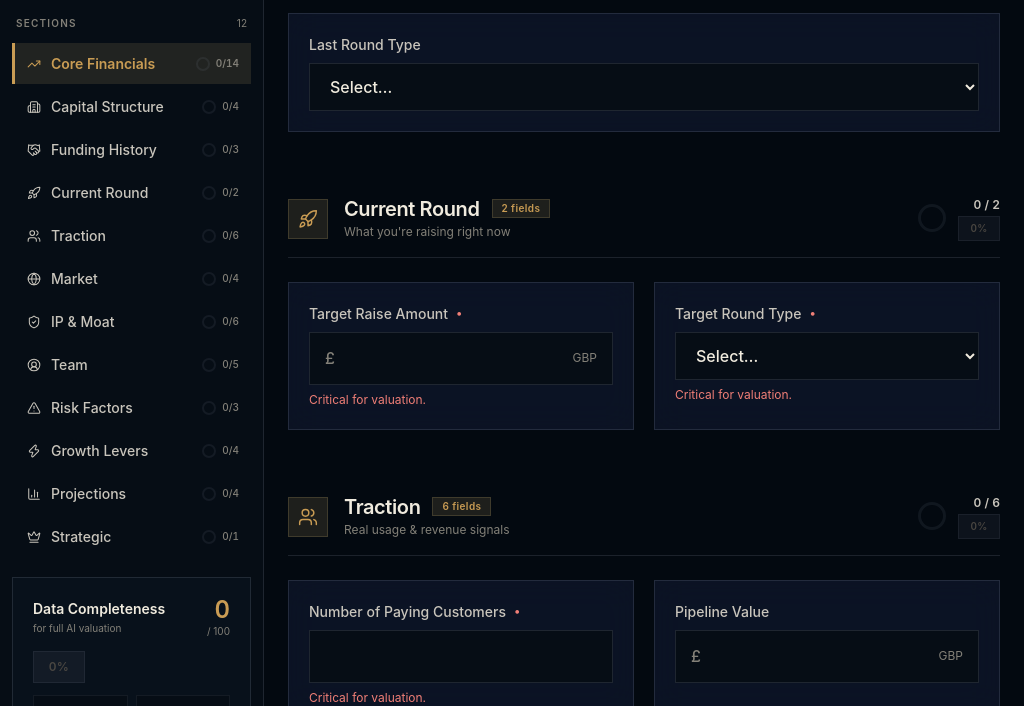
Test: IntakeForm — Q5 metamorphic › swaps supplementary fields when the founder switches round types
(page scrolled)
Select "Seed" in the dropdown labelled "Target Round Type" at (827, 356), box [675,332,979,380]
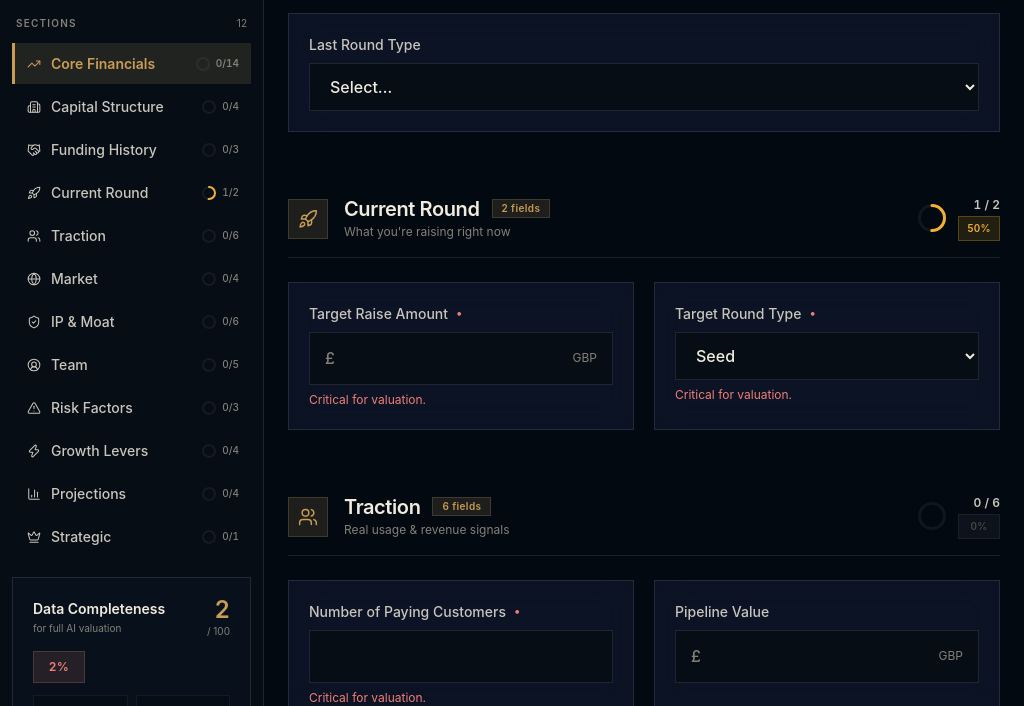
Select "Strategic" in the dropdown labelled "Target Round Type" at (827, 356), box [675,332,979,380]
(page scrolled)
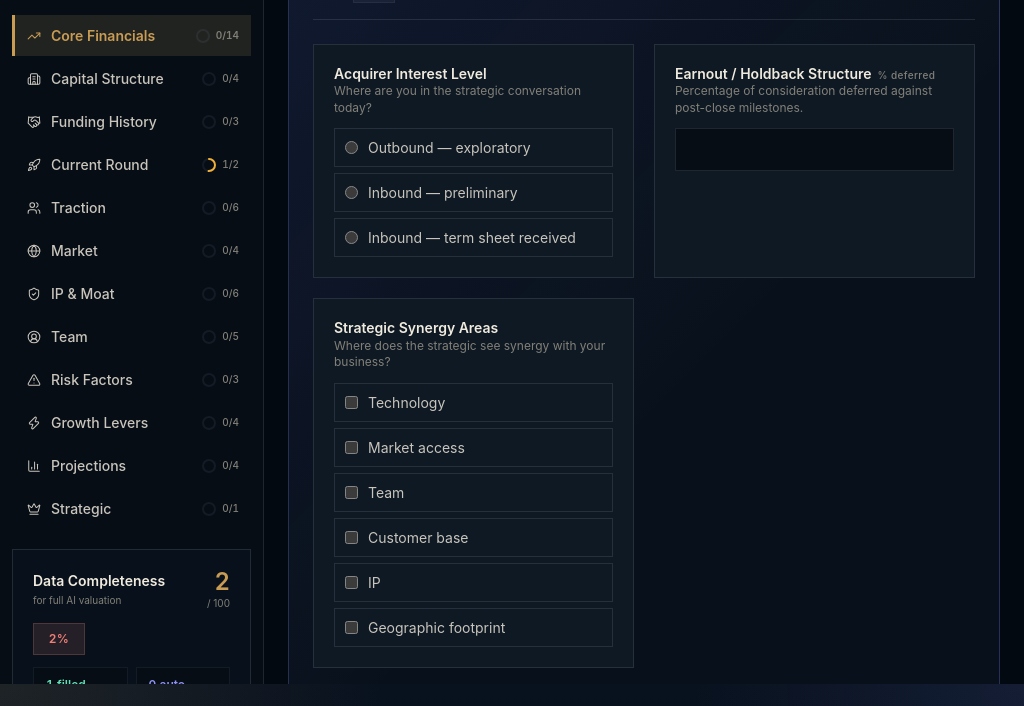
Now the text "Acquirer Interest Level" is shown, box [334,65,487,82]
Now the text "Strategic Synergy Areas" is shown, box [334,319,498,336]
